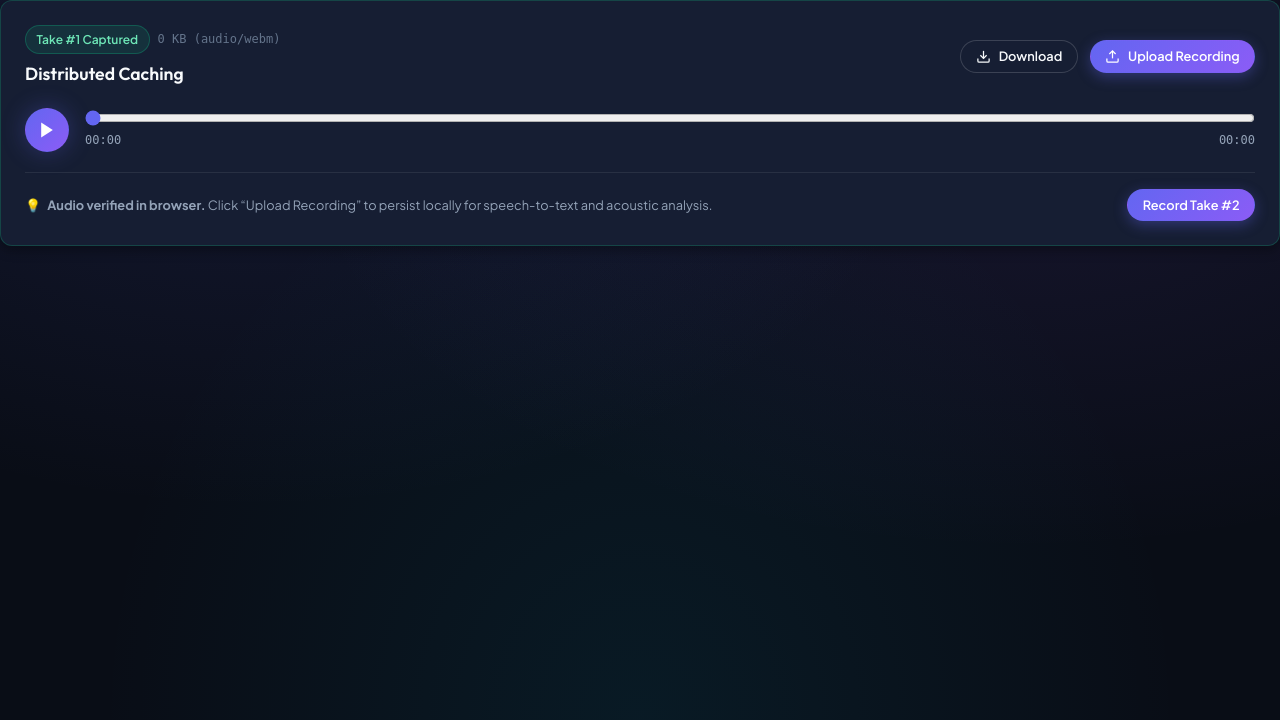
Test: AudioPlayer Component › displays failure banner and retry button when acoustic analysis fails
Click the button "Upload Recording": (1172, 56) top-left (1090, 40), bottom-right (1255, 73)
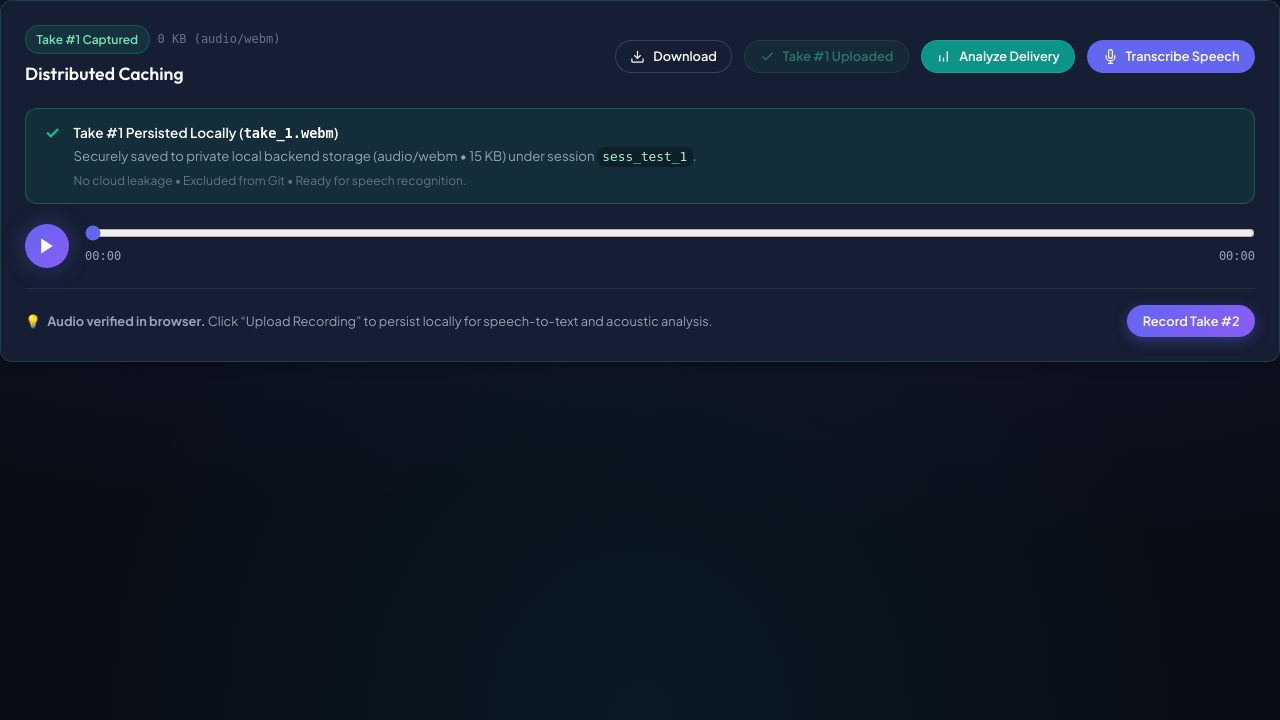
Check: the button "Analyze Delivery" is shown
Click the button "Analyze Delivery": (998, 56) top-left (921, 40), bottom-right (1075, 73)
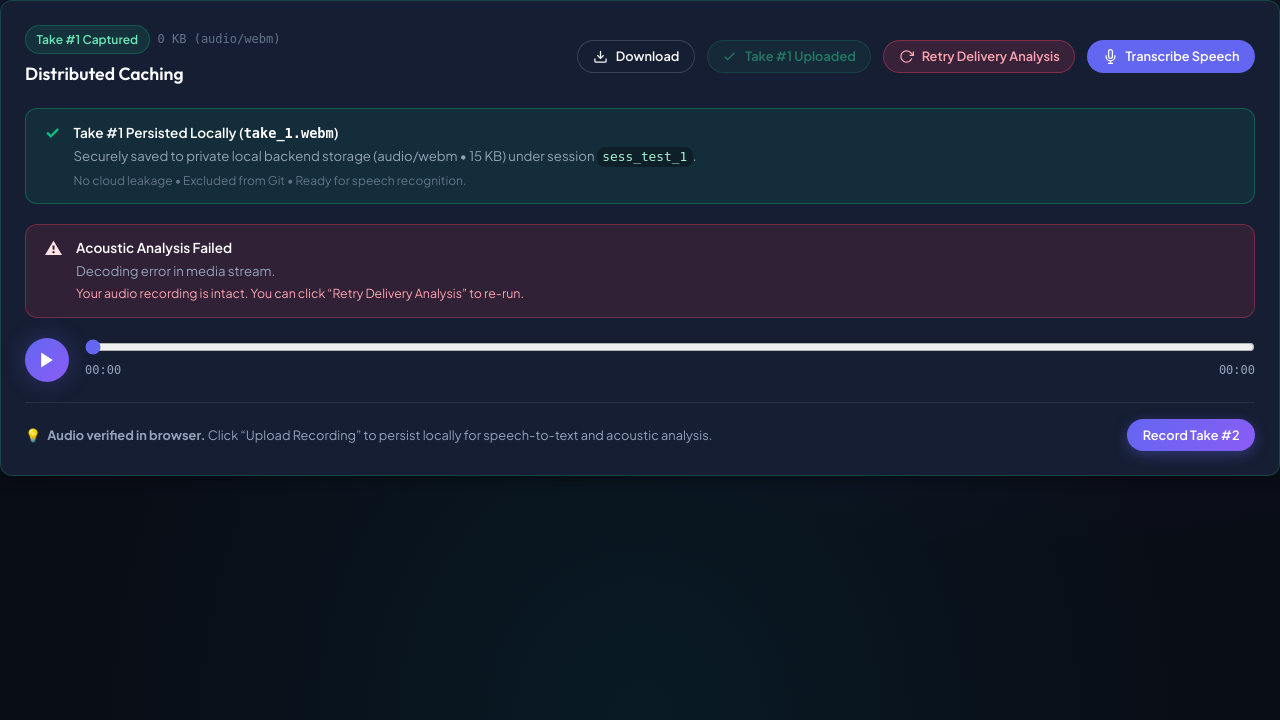
Check: the text "Acoustic Analysis Failed" is shown, box top-left (76, 239), bottom-right (232, 256)
Check: the text "Decoding error in media stream." is shown, box top-left (76, 262), bottom-right (275, 279)
Check: the button "Retry Delivery Analysis" is shown, box top-left (883, 40), bottom-right (1075, 73)
